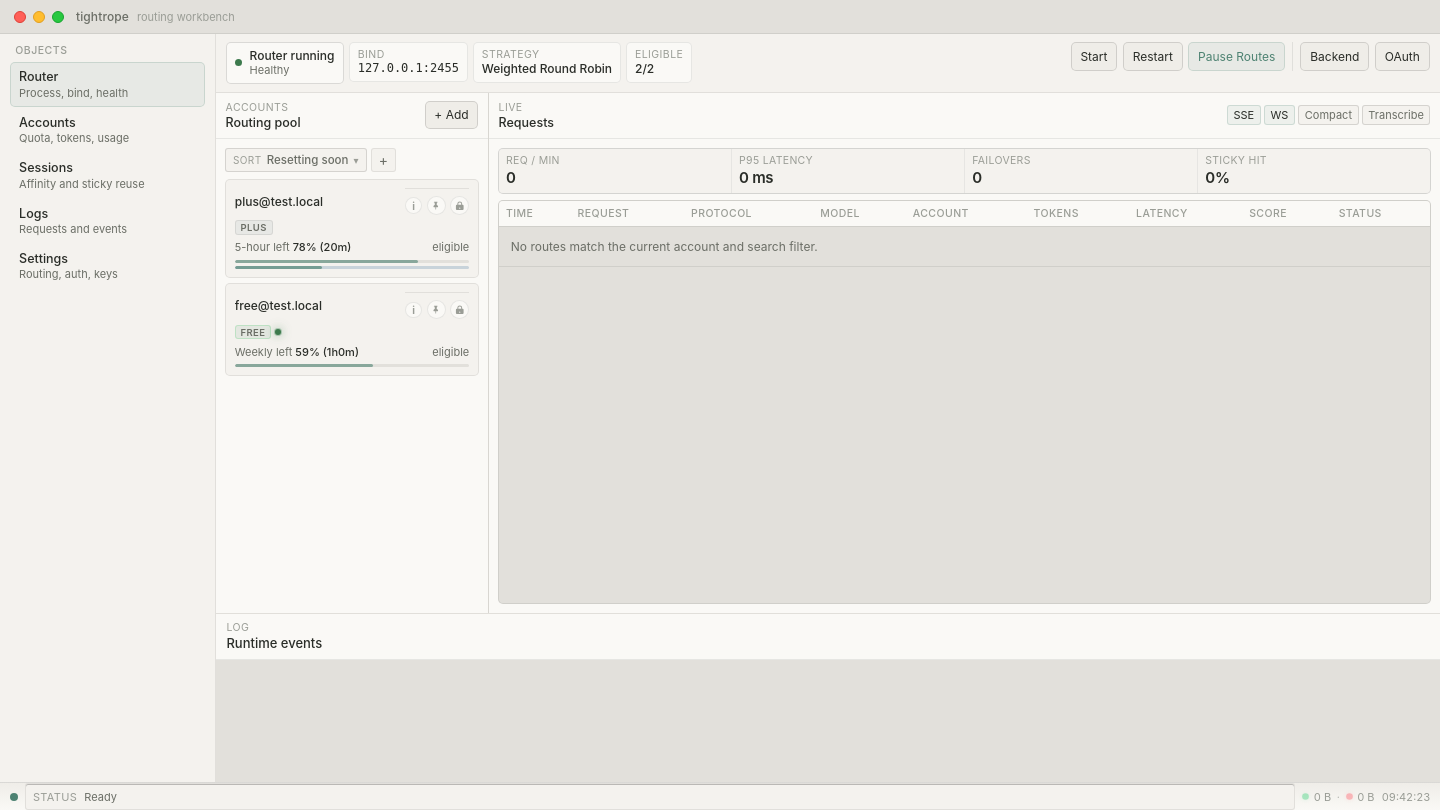
Scenario: App › renders account usage windows by plan from tracked telemetry
What coordinates should you click on to do the following:
click the button "Accounts Quota, tokens, usage"
I would click on:
 (108, 130)
Its box is [10,108,205,152].
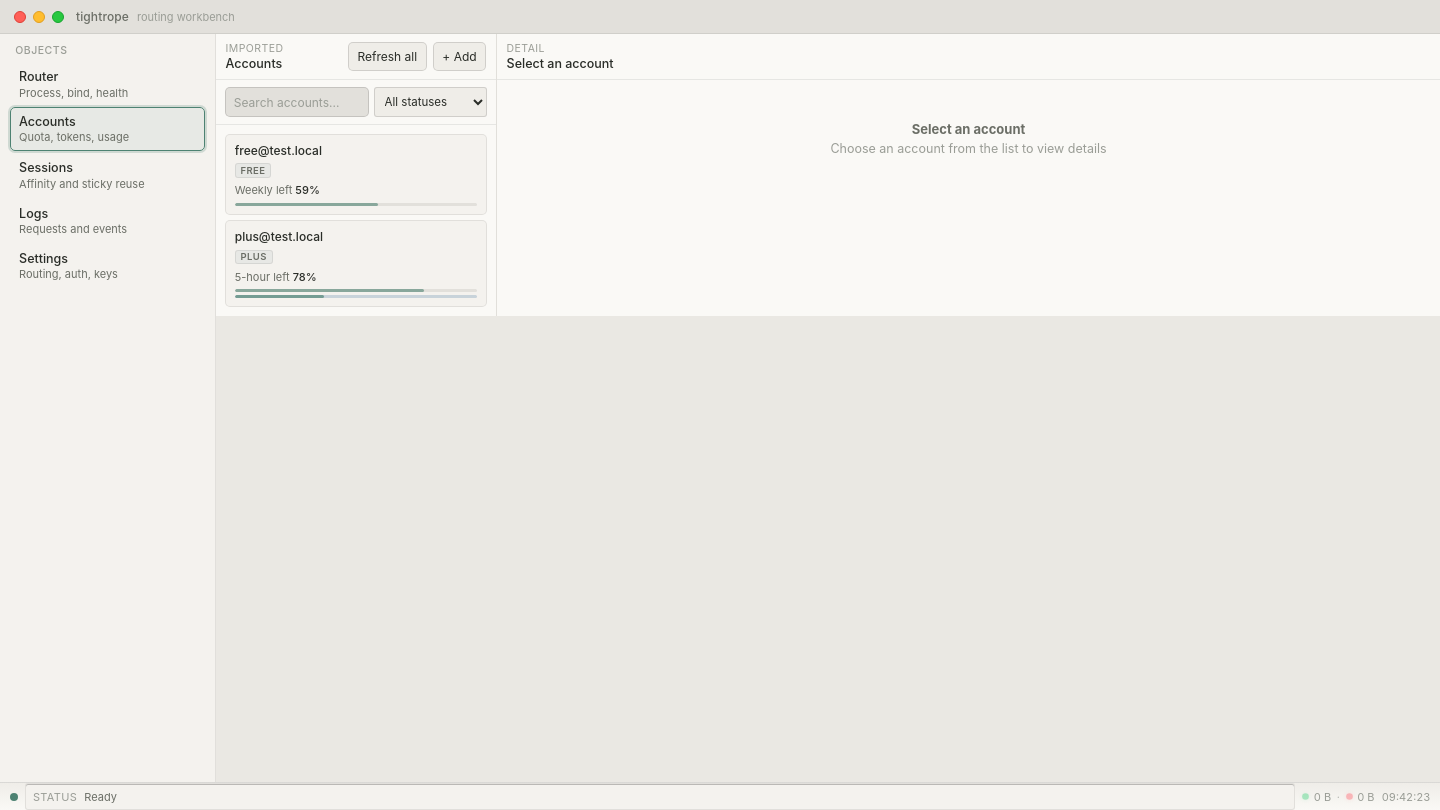
Expected: the button "free@test.local free Weekly left 59%" is shown
What coordinates should you click on to do the following:
click the button "free@test.local free Weekly left 59%"
I would click on:
 (278, 150)
Its box is [225,134,487,215].
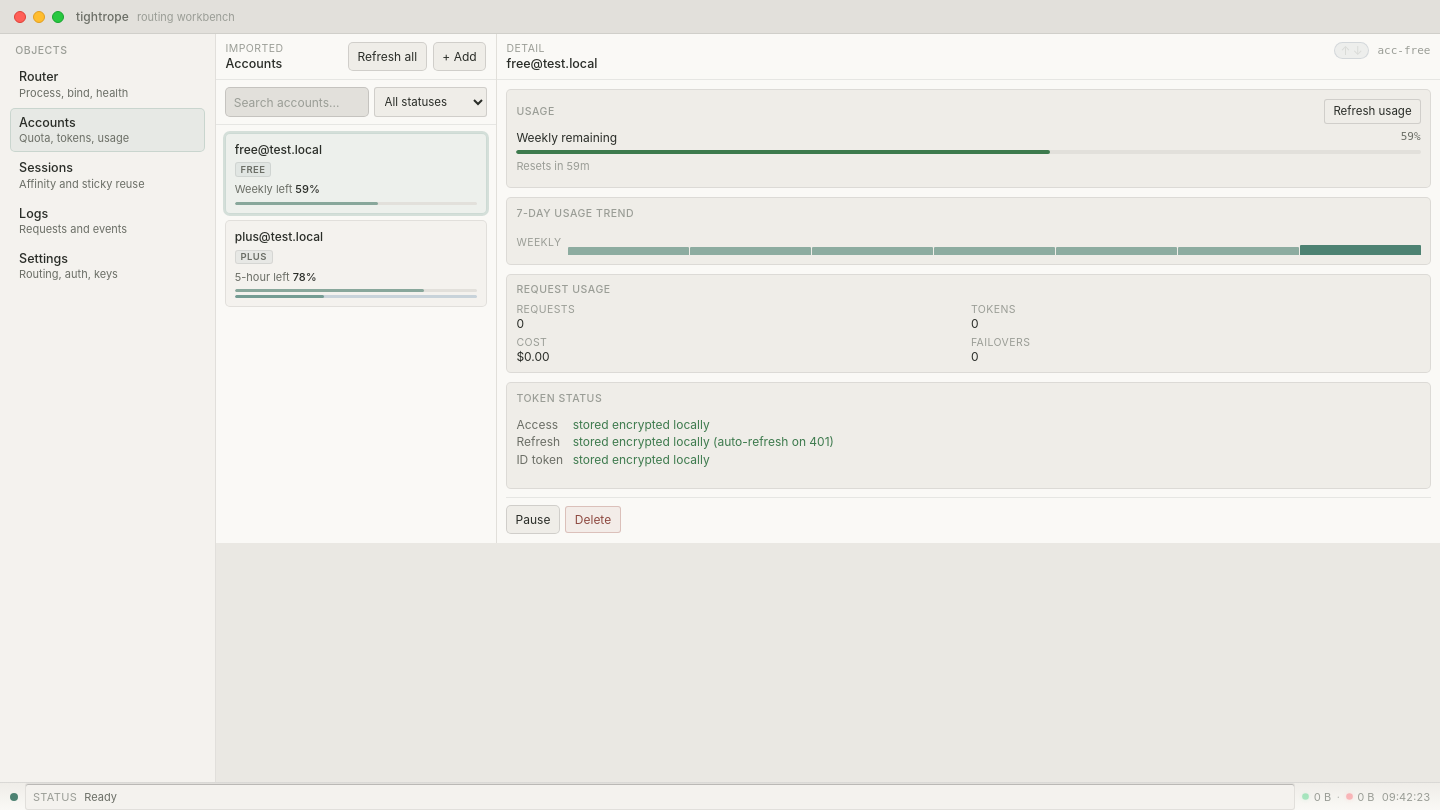
Expected: the text "5h remaining" is not shown
Expected: the text "Weekly remaining" is shown, [516,130,617,145]
What coordinates should you click on to do the following:
click the button "plus@test.local plus 5-hour left 78%"
I would click on:
 (279, 237)
Its box is [225,220,487,307].
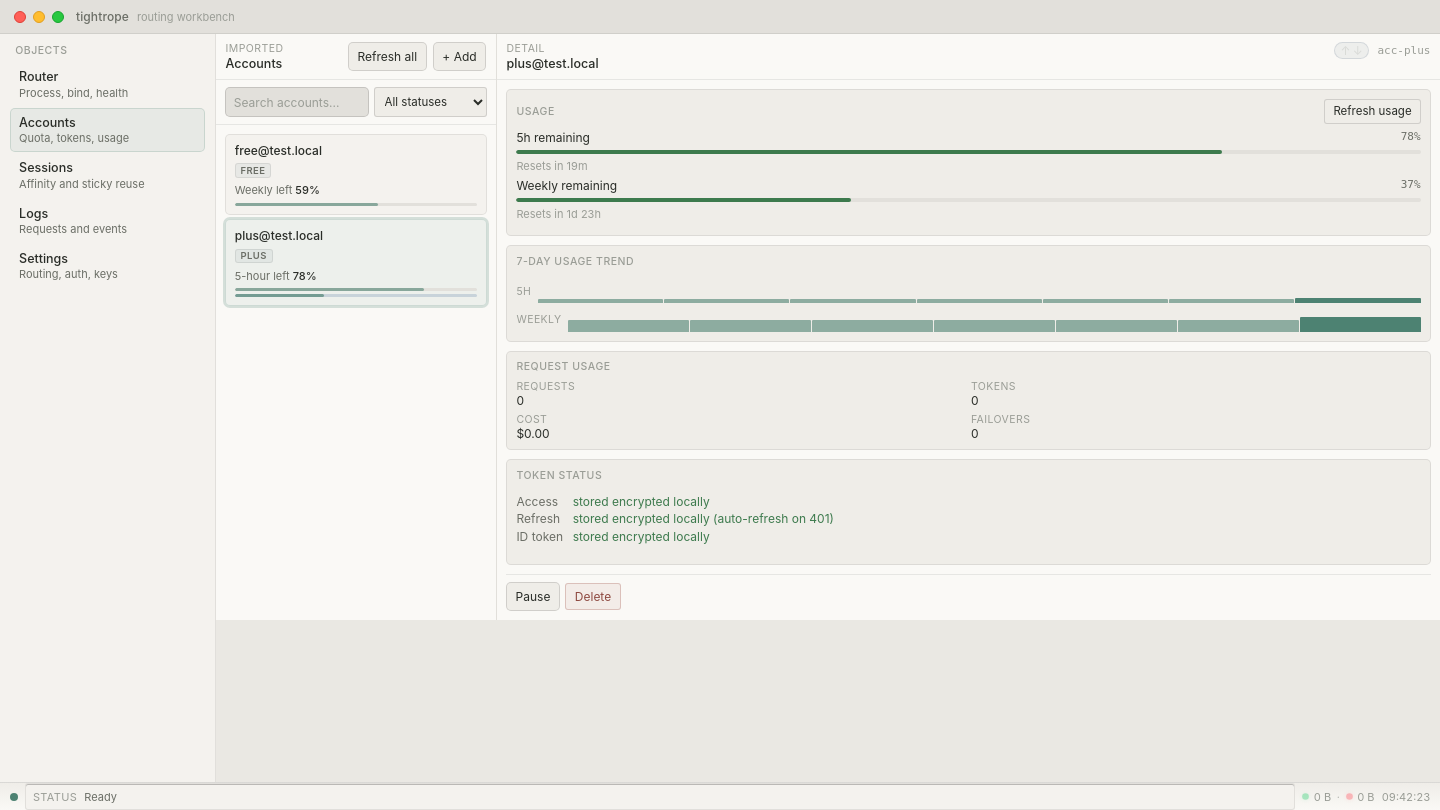
Expected: the text "Weekly remaining" is shown, [516,178,617,193]
Expected: the text "5h remaining" is shown, [516,130,590,145]
